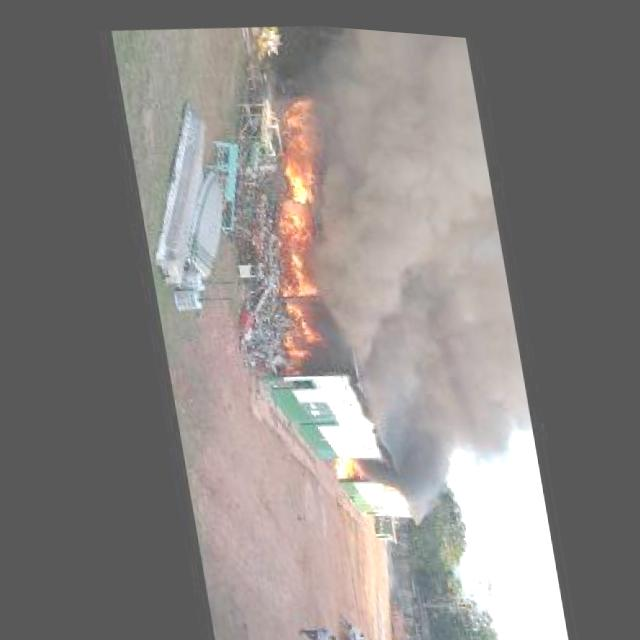Fire: (268, 84, 335, 199), (266, 190, 329, 299), (265, 291, 331, 374), (327, 442, 369, 479)
Smoke: (279, 18, 540, 502)
